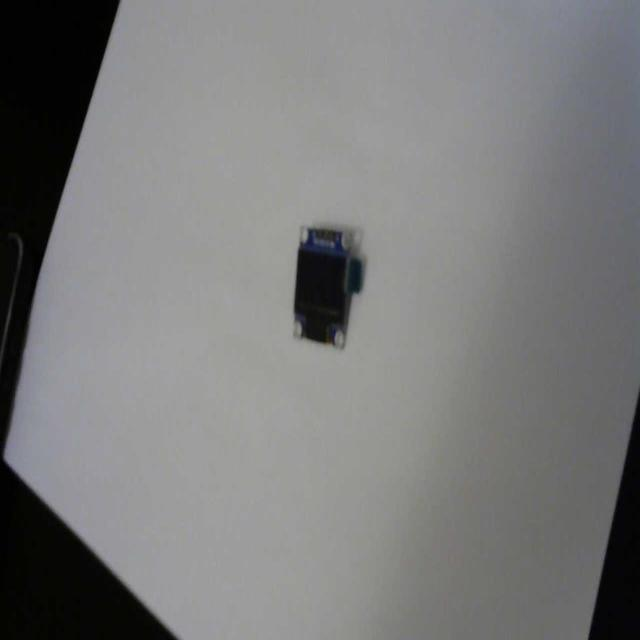oled: (291, 218, 366, 356)
